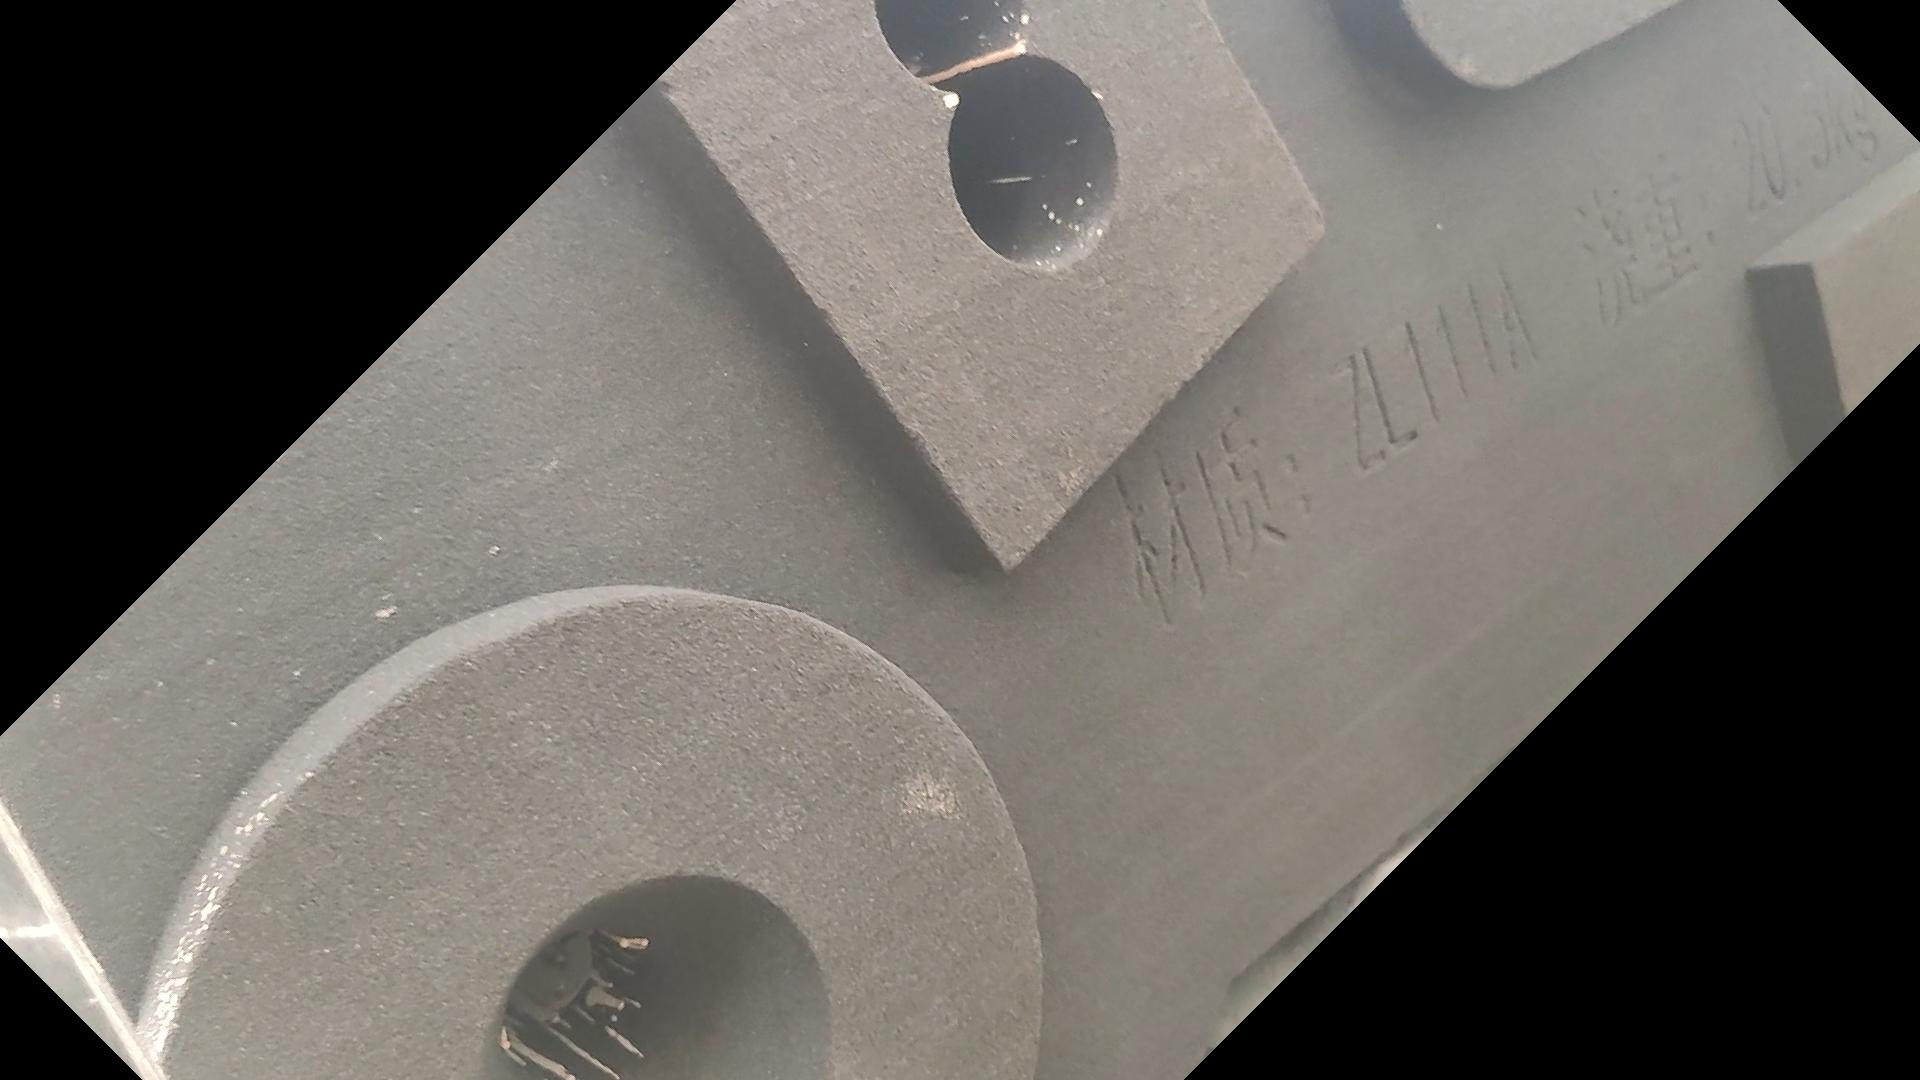pouring hole: (473, 876, 833, 1080)
